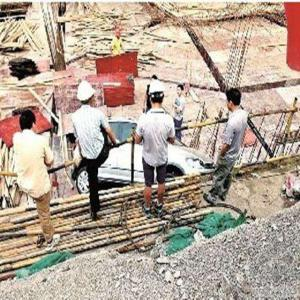none: (16, 110, 38, 136), (224, 88, 243, 113), (178, 85, 186, 97)
white: (75, 81, 97, 110), (148, 79, 167, 108)
